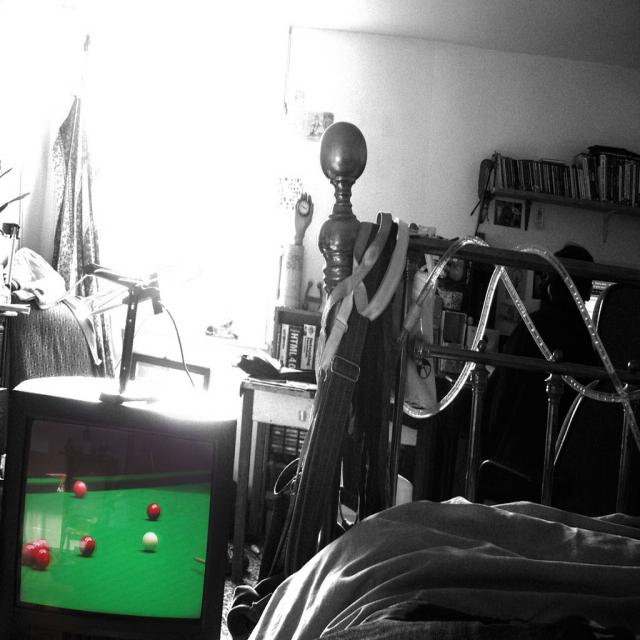Ball: (22, 538, 50, 570), (80, 534, 96, 558), (143, 531, 159, 550), (72, 482, 90, 496), (146, 504, 163, 518)
Billiard table: (20, 470, 212, 620)
